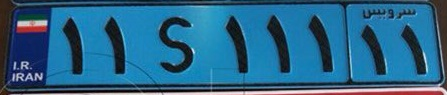1: (56, 12, 94, 77), (263, 11, 297, 77), (304, 10, 339, 74), (223, 11, 256, 76), (101, 12, 133, 78), (397, 20, 433, 78), (357, 21, 392, 77)
S: (152, 11, 201, 76)
